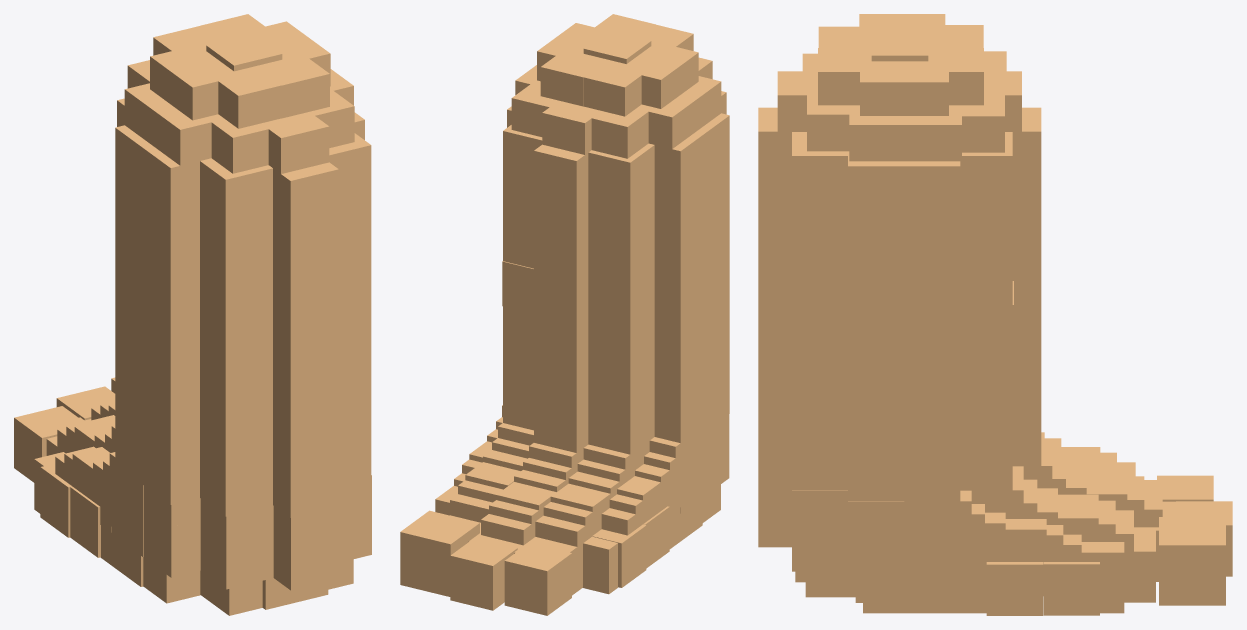
File: pierna_Izq.obj
3 renders of one model, left to right at view 1: azimuth 30°, elevation 25°; view 2: azimuth 150°, elevation 25°; view 3: azimuth 270°, elevation 25°, orthographic. The views are drawn at different scales.
Parts seen in each view (by area): view 1: Box2403; view 2: Box2403; view 3: Box2403.
Part boxes in pixels (bbox=[...]): Box2403: bbox=[14, 14, 371, 615]; Box2403: bbox=[400, 14, 729, 615]; Box2403: bbox=[758, 14, 1232, 615].
Size of the model in its own units: 0.8358 by 2.01 by 1.65.
